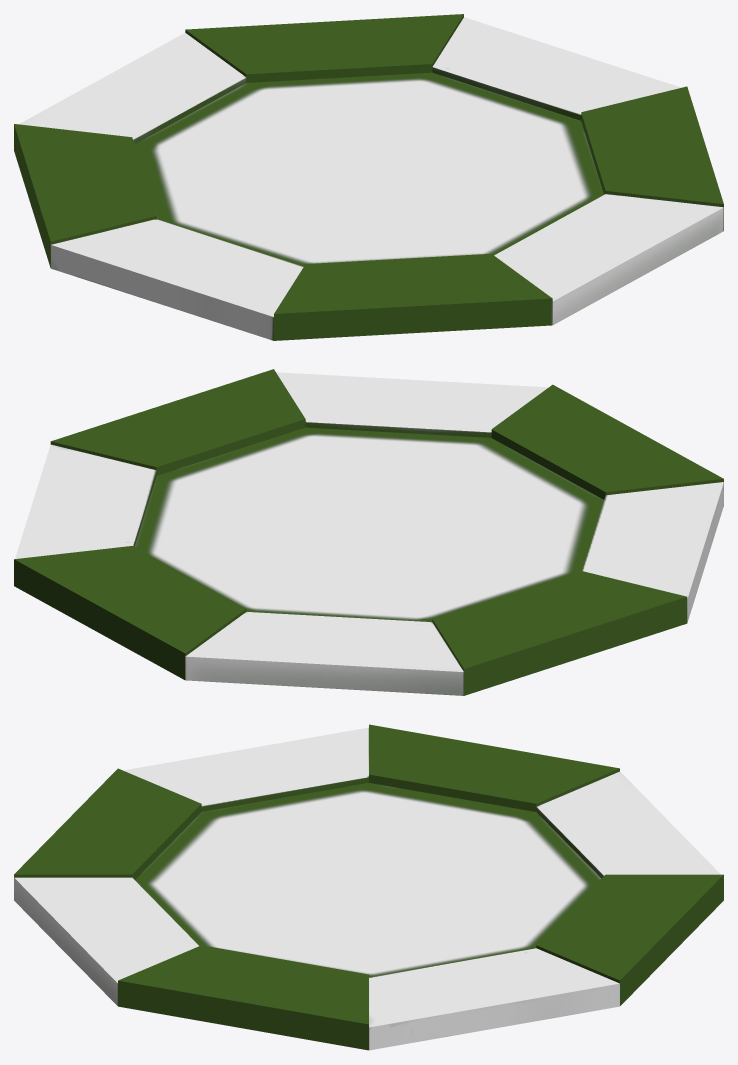
Rendered from PokerChip1.fbx.
3 views of the same model, one above another, from view 1: azimuth 30°, elevation 25°; view 2: azimuth 150°, elevation 25°; view 3: azimuth 270°, elevation 25° (orthographic). The views are drawn at different scales.
Visible parts, largest first — view 1: pCylinder34; view 2: pCylinder34; view 3: pCylinder34.
Boxes of the visible parts, <box> form: pCylinder34: <box>14,14,723,340</box>; pCylinder34: <box>14,369,723,695</box>; pCylinder34: <box>14,724,723,1050</box>.
Bounding box in the file's own units: 0.2751 × 0.0111 × 0.2751.
1 material, 1 textured.
